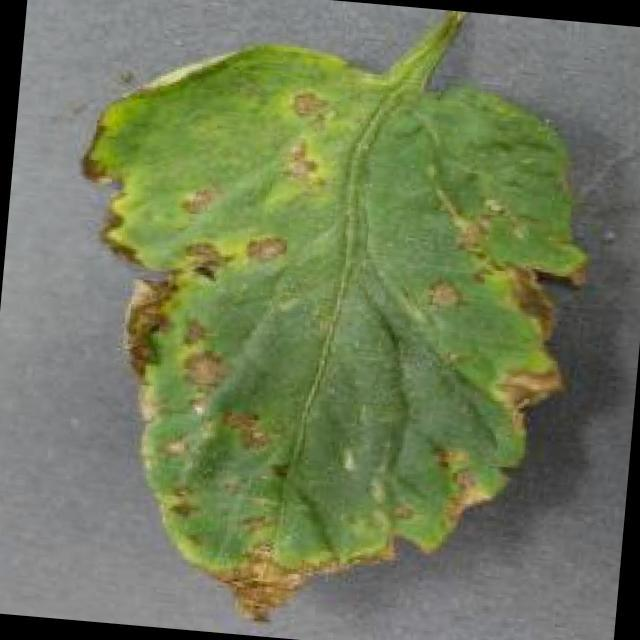Tomato bacterial spot leaf: (33, 18, 611, 640)
